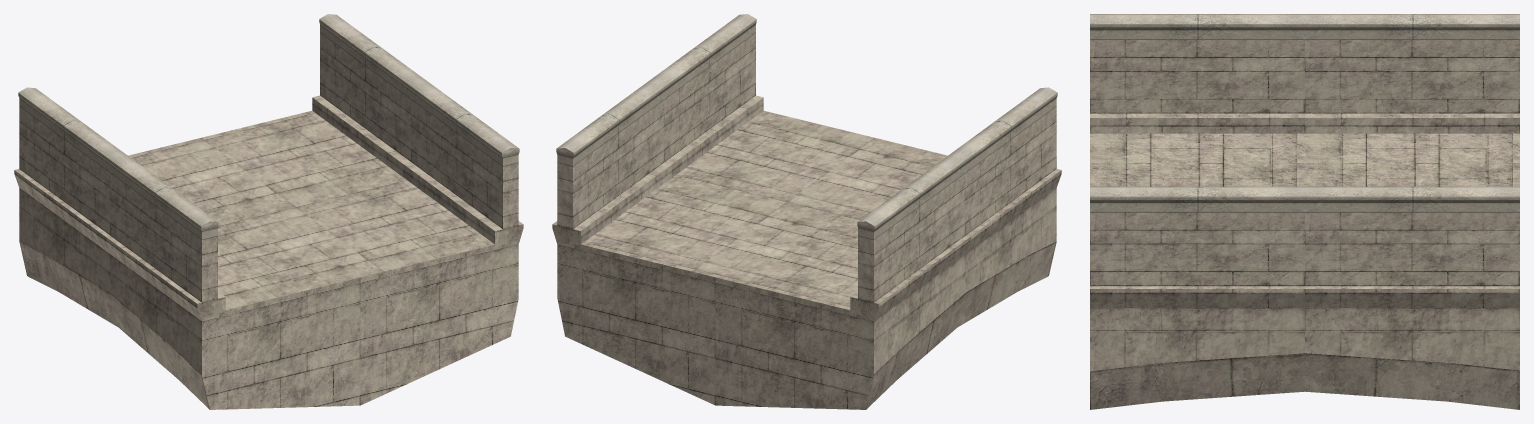
The model's file is CrownMarble.dae.
The picture shows the model from 3 angles, left to right: view 1: azimuth 30°, elevation 25°; view 2: azimuth 150°, elevation 25°; view 3: azimuth 270°, elevation 25°; orthographic projection. The views are drawn at different scales.
Visible parts, largest first — view 1: CrownMarble; view 2: CrownMarble; view 3: CrownMarble.
Part boxes in pixels (x1=…): CrownMarble: x1=14, y1=14, x2=523, y2=409; CrownMarble: x1=552, y1=14, x2=1061, y2=409; CrownMarble: x1=1090, y1=14, x2=1519, y2=409.
Size of the model in its own units: 4.12 by 2.67 by 4.
2 materials, 2 textured.
